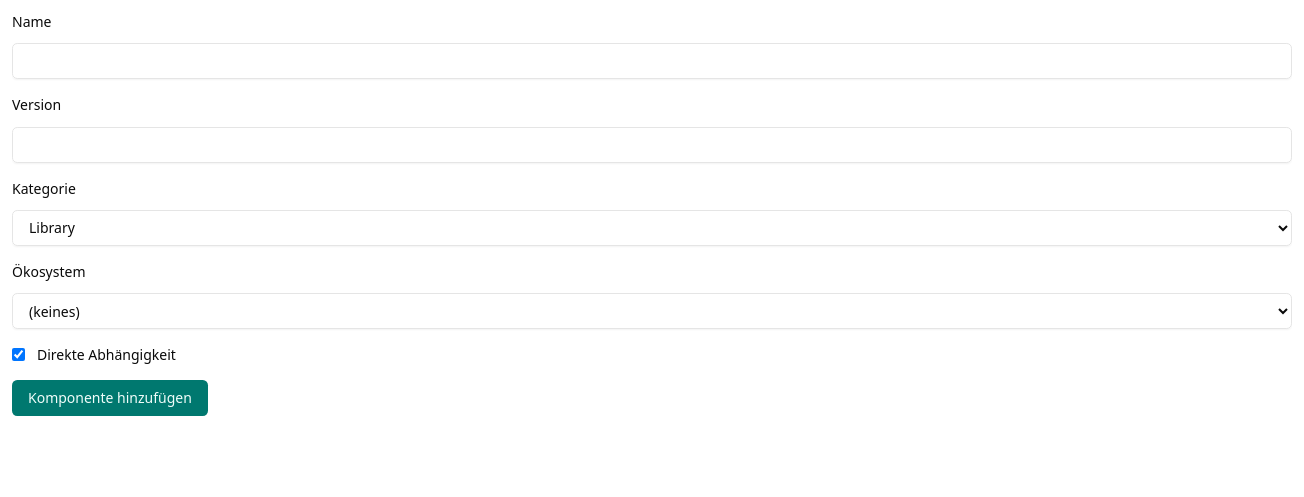
Test case: InventoryForm › zeigt einen Fehler und sendet nicht bei leerem Formular
Step 1. Click the button with test id "inventory-btn-submit" → (110, 398), box x1=12 y1=380 x2=208 y2=416
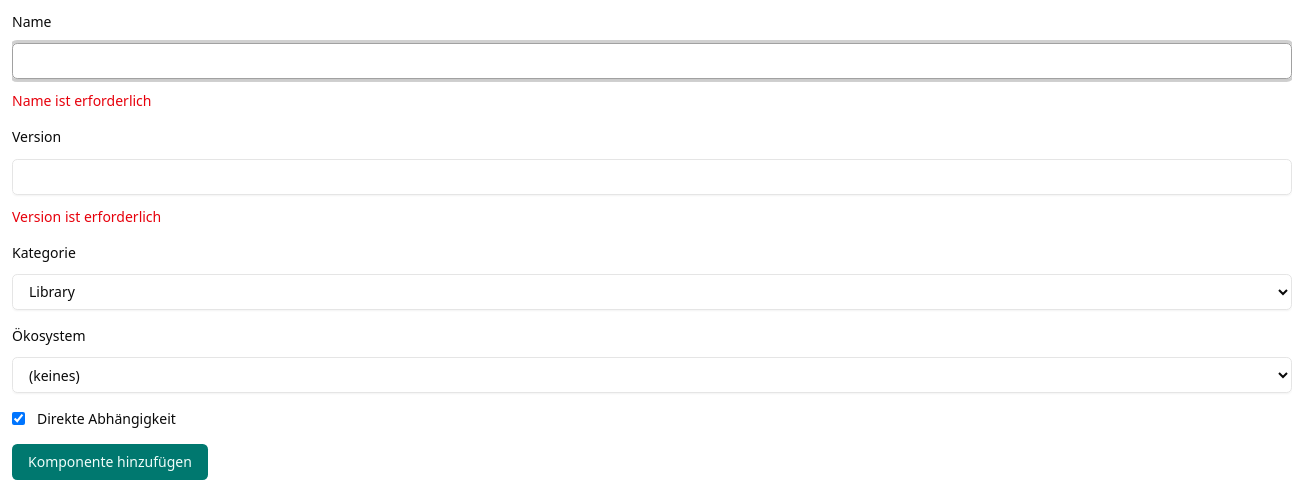
Expected: the message "Name ist erforderlich" is shown, x1=12 y1=91 x2=152 y2=110
